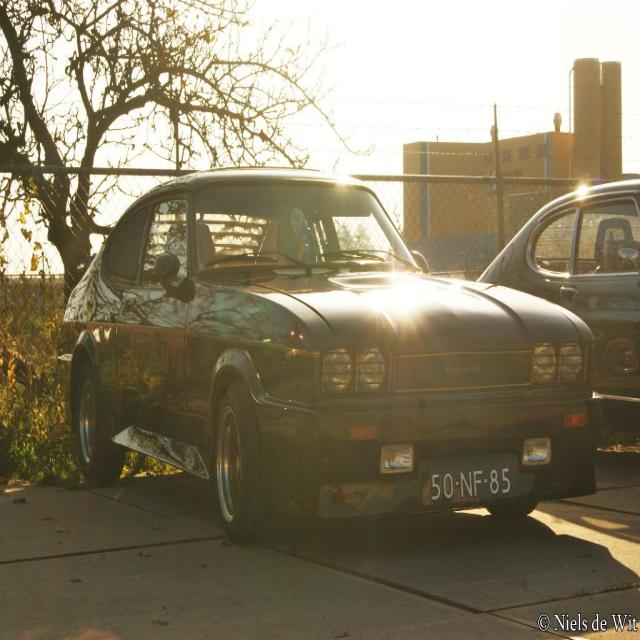car: (57, 168, 600, 543)
